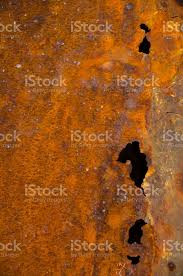rust: (1, 1, 183, 275)
